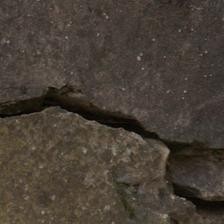Crack: (43, 57, 114, 166), (125, 39, 181, 81)
